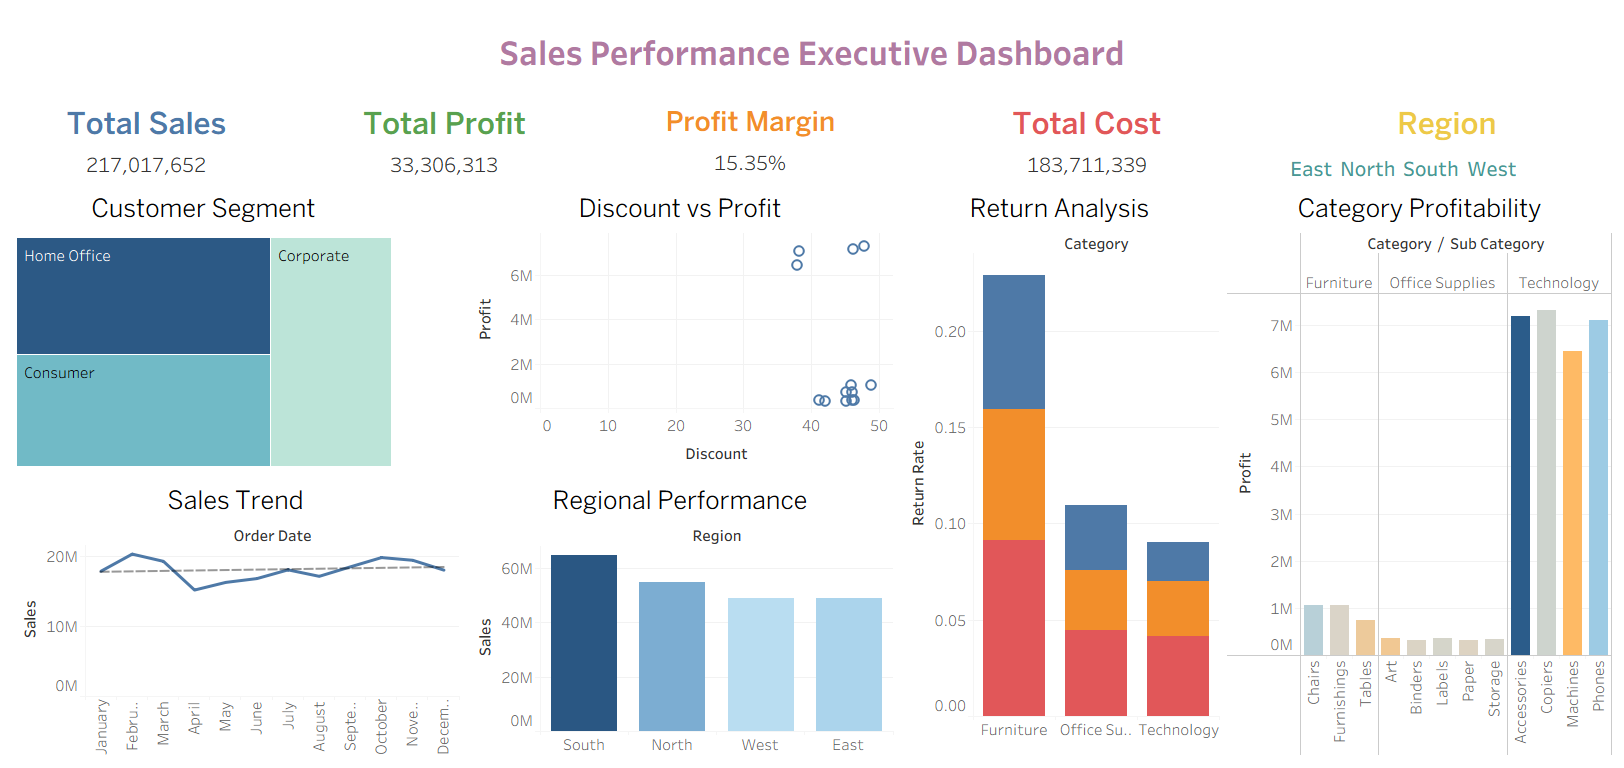

The page's visual inventory and layout, read from the dashboard file:
{"tool":"tableau","page":{"name":"Dashboard 1","canvas":[1624,768],"ordinal":0},"visuals":[{"type":"title","box":[8,8,1608,88]},{"type":"worksheet","title":"KPI1","mark":"Automatic","box":[8,96,277,85.8]},{"type":"worksheet","title":"KPI2","mark":"Automatic","box":[285,96,318.6,85.8]},{"type":"worksheet","title":"KPI4","mark":"Automatic","box":[603.6,96,292.8,85.8]},{"type":"worksheet","title":"KPI3","mark":"Automatic","box":[896.3,96,381.7,85.9]},{"type":"worksheet","title":"KPI5","mark":"Automatic","box":[1278,96,338,85.9]},{"type":"worksheet","title":"4","mark":"Automatic","box":[8,181.8,454.6,292.6]},{"type":"worksheet","title":"6","mark":"Automatic","rows":["profit"],"cols":["discount"],"box":[462.6,181.8,433.7,292.6]},{"type":"worksheet","title":"7","mark":"Automatic","rows":["Calculation_0166043461615622"],"cols":["category"],"box":[896.3,181.9,326.6,578.1]},{"type":"worksheet","title":"3","mark":"Automatic","rows":["profit"],"cols":["category","sub_category"],"box":[1223,181.9,393,578.1]},{"type":"worksheet","title":"1","mark":"Automatic","rows":["sales"],"cols":["order_date"],"box":[8,474.5,454.6,285.5]},{"type":"worksheet","title":"2","mark":"Automatic","rows":["sales"],"cols":["region"],"box":[462.6,474.5,433.7,285.5]}]}

Visuals, with their boxes in screenshot pixels (x1, y1, x2, y2), scaled from the page's 1624x768 canvas onto the 1624x768 screenshot:
title: <region>8, 8, 1616, 96</region>
"KPI1" worksheet: <region>8, 96, 285, 182</region>
"KPI2" worksheet: <region>285, 96, 604, 182</region>
"KPI4" worksheet: <region>604, 96, 896, 182</region>
"KPI3" worksheet: <region>896, 96, 1278, 182</region>
"KPI5" worksheet: <region>1278, 96, 1616, 182</region>
"4" worksheet: <region>8, 182, 463, 474</region>
"6" worksheet: <region>463, 182, 896, 474</region>
"7" worksheet: <region>896, 182, 1223, 760</region>
"3" worksheet: <region>1223, 182, 1616, 760</region>
"1" worksheet: <region>8, 474, 463, 760</region>
"2" worksheet: <region>463, 474, 896, 760</region>
